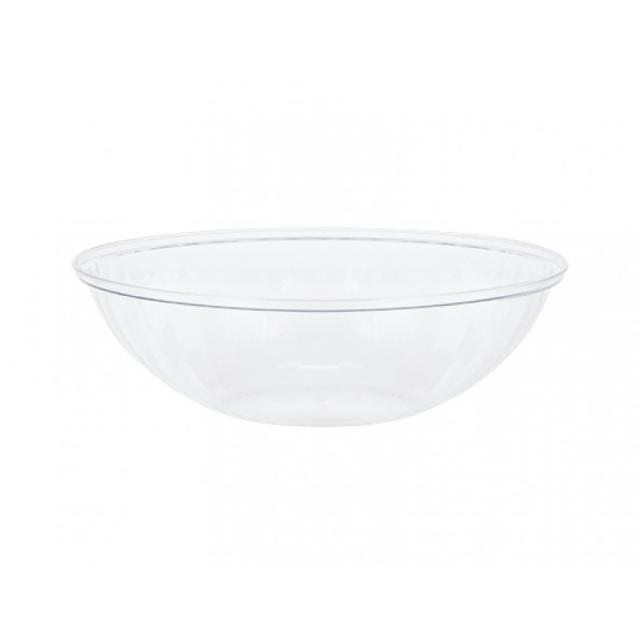Bowl: (70, 232, 575, 429)
